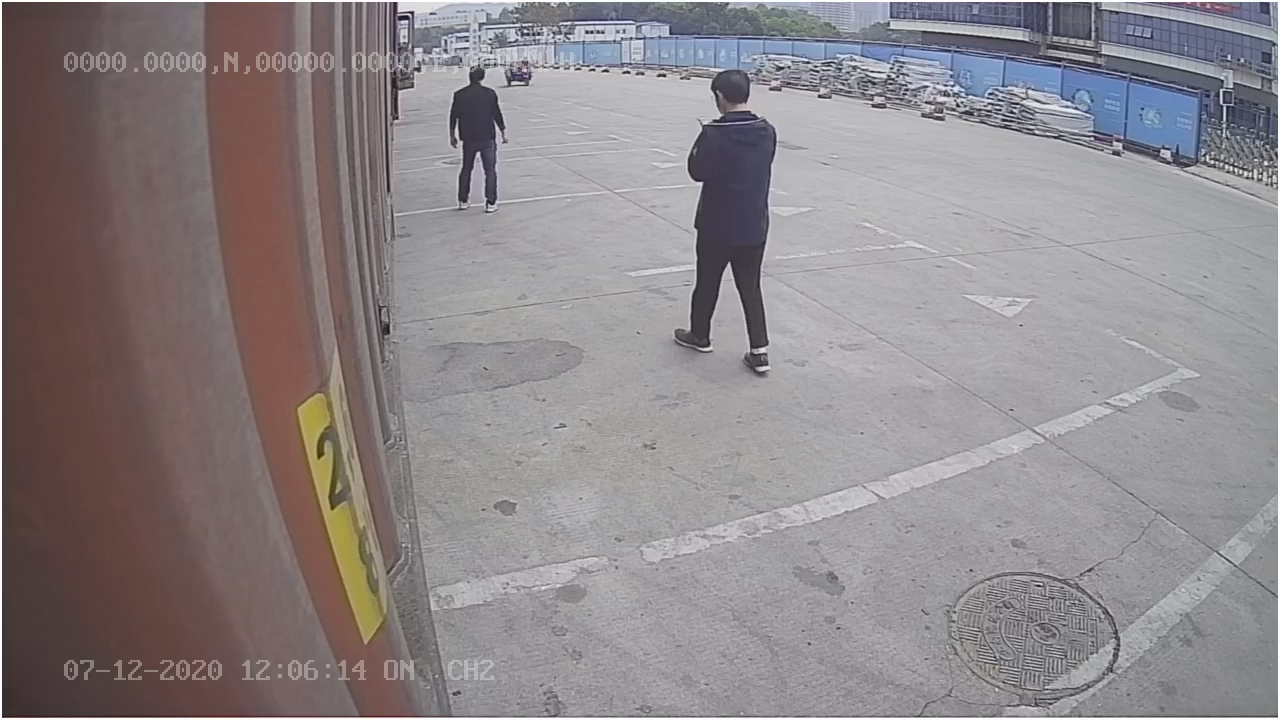person: (661, 70, 779, 379)
